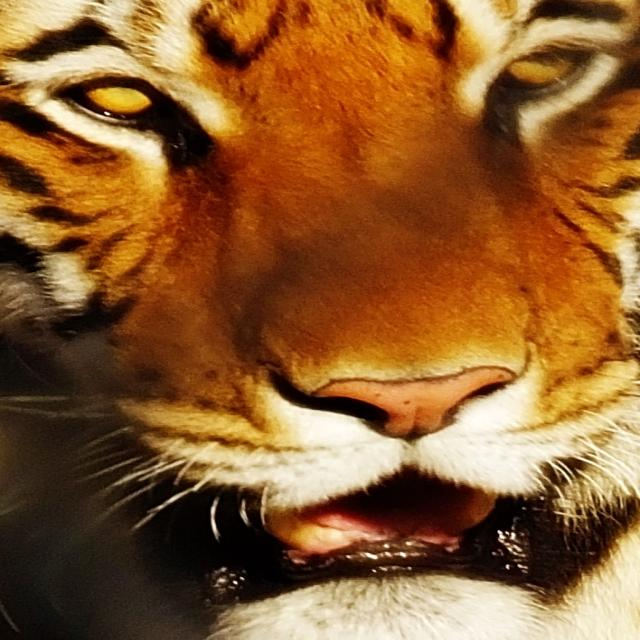tiger: (17, 0, 639, 625)
